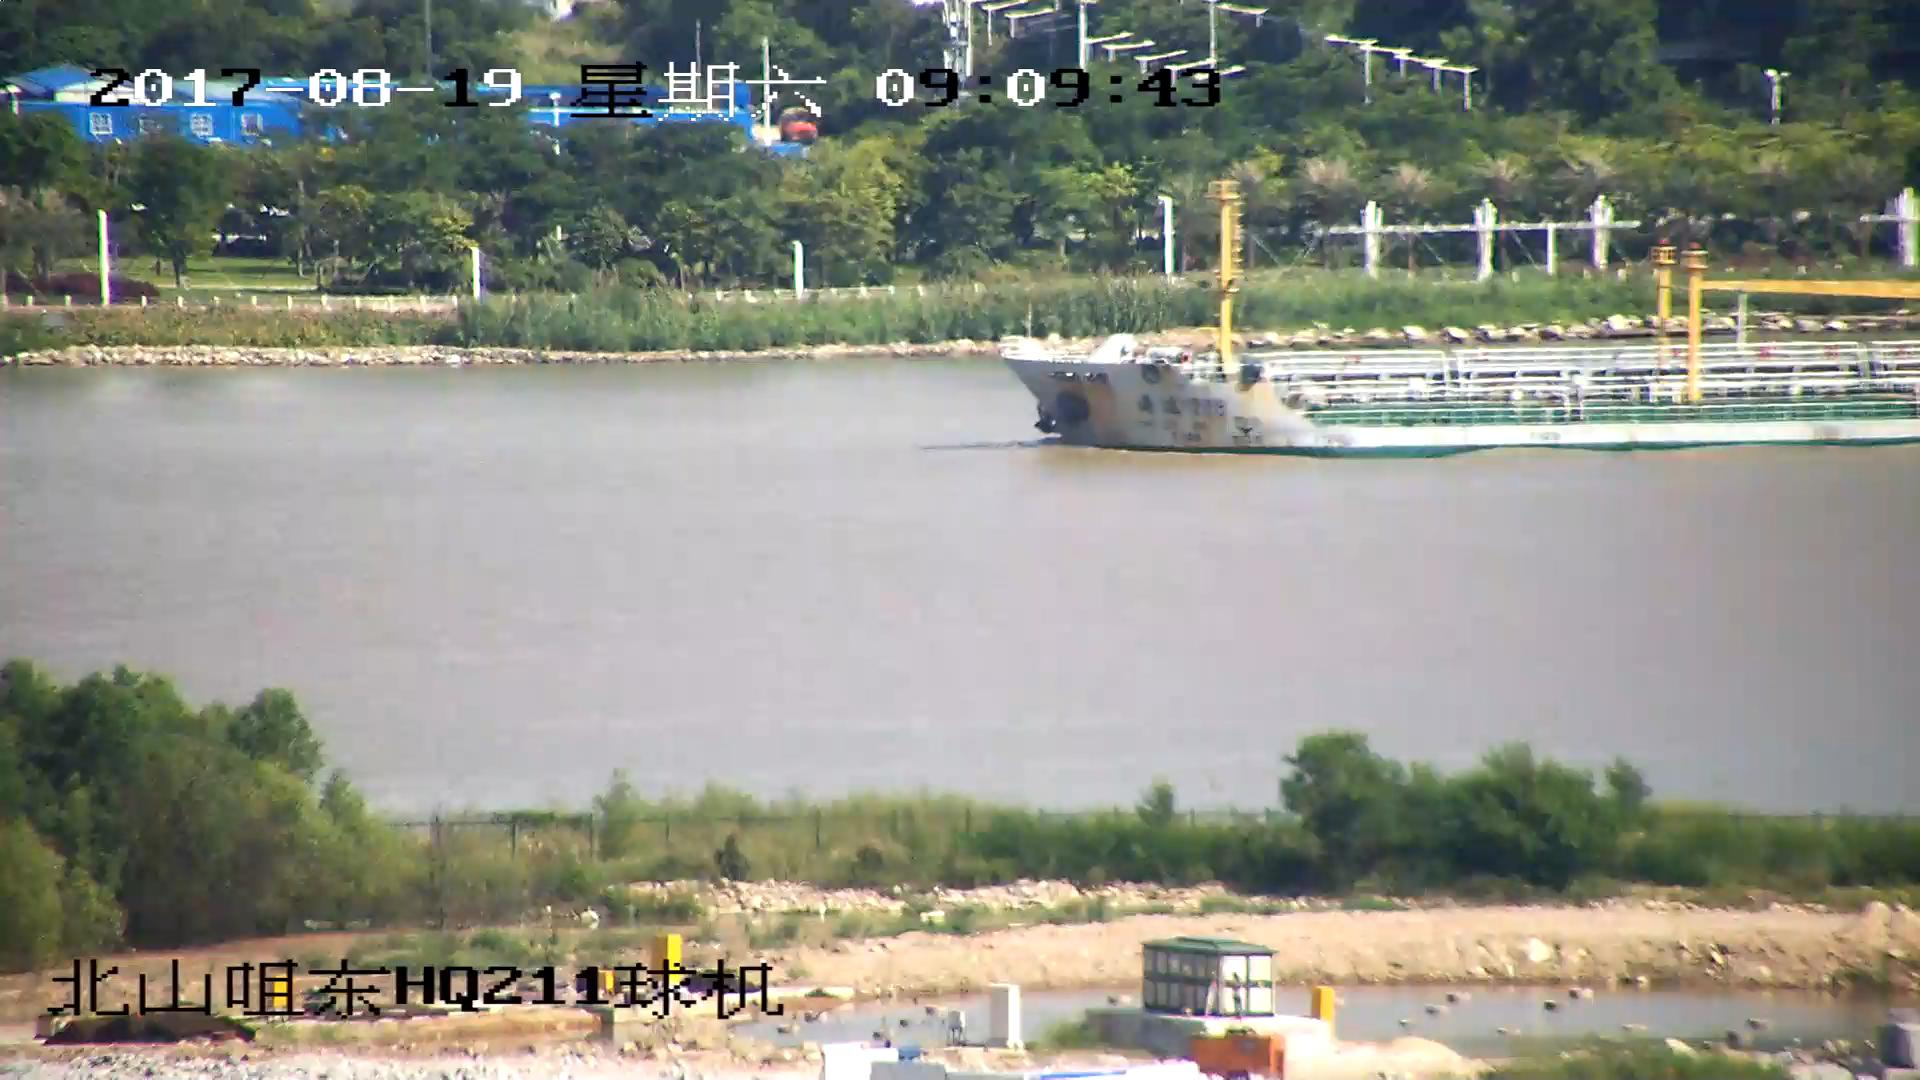general cargo ship: (999, 204, 1920, 447)
